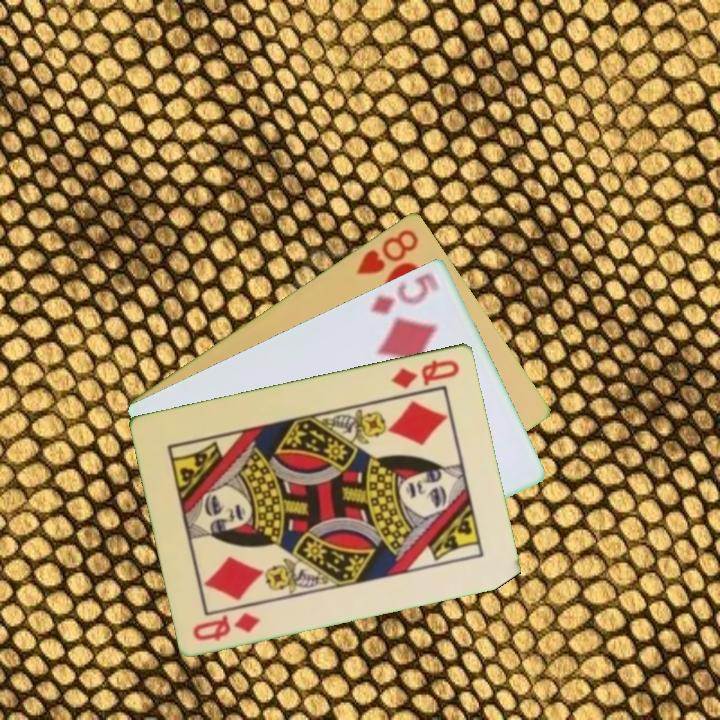5d: (366, 268, 442, 317)
8h: (352, 225, 422, 277)
Qd: (388, 355, 463, 391), (189, 608, 263, 643)
